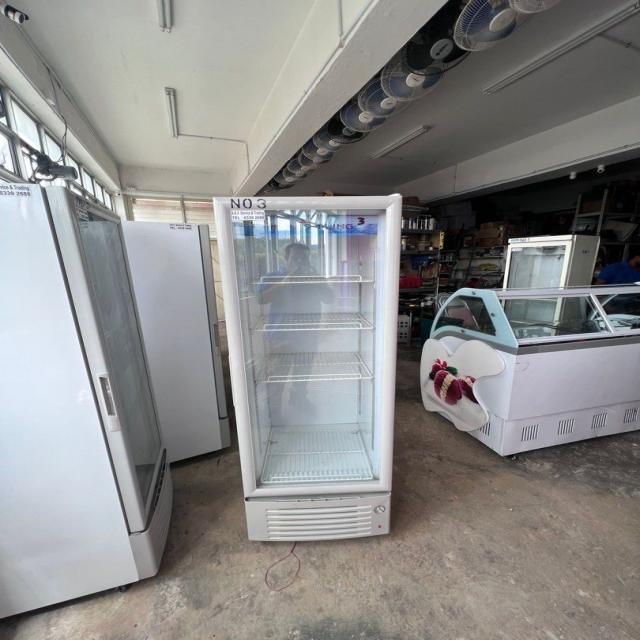refrigerator: (211, 195, 397, 541), (44, 183, 175, 581), (505, 234, 573, 326)
